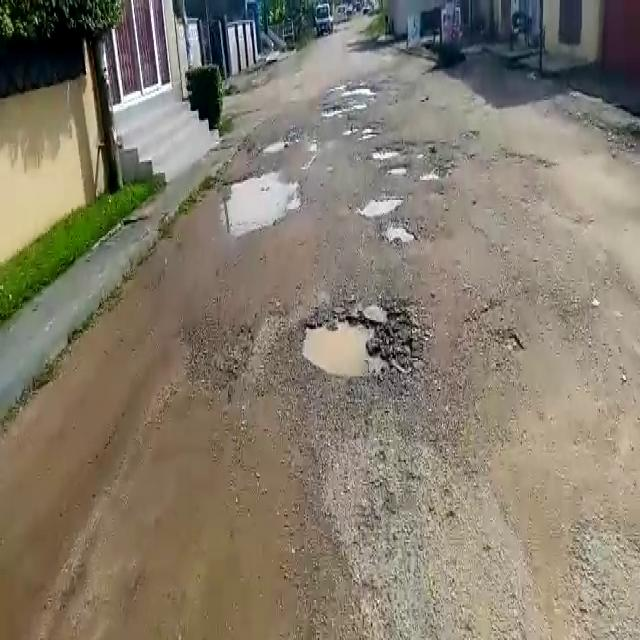Pothole: (300, 301, 418, 382), (226, 170, 302, 237), (355, 195, 405, 219), (379, 223, 421, 247), (366, 144, 408, 159), (343, 122, 382, 136), (264, 138, 288, 154), (419, 171, 442, 184), (387, 165, 407, 178)
